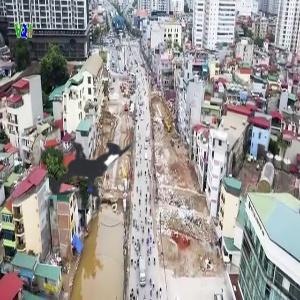drone: (11, 89, 179, 257)
